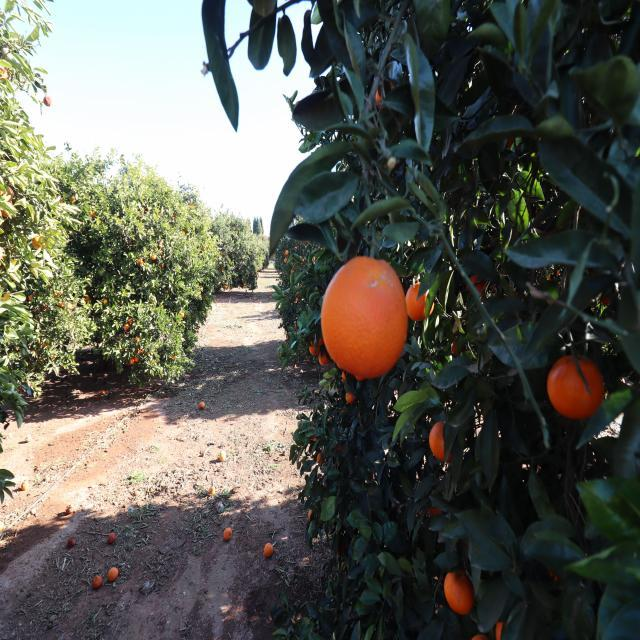Jeruk Sudah Matang: (320, 252, 409, 384), (544, 350, 608, 420), (442, 566, 480, 622), (426, 419, 462, 465), (405, 278, 437, 322), (372, 78, 398, 112), (492, 618, 516, 640), (32, 232, 46, 252), (468, 631, 495, 640), (308, 339, 322, 356), (314, 328, 327, 346), (0, 186, 15, 201), (318, 351, 332, 366), (1, 204, 12, 219), (344, 392, 355, 404), (341, 370, 349, 383), (70, 194, 78, 207), (36, 334, 44, 347), (151, 254, 161, 264), (58, 198, 68, 208), (102, 295, 110, 307), (198, 250, 206, 262), (38, 356, 46, 368), (158, 299, 164, 314), (50, 353, 59, 362), (34, 308, 42, 318), (30, 347, 40, 355), (85, 296, 93, 304), (138, 257, 146, 265), (32, 288, 39, 297), (181, 225, 188, 234), (173, 213, 180, 222), (124, 322, 130, 332), (150, 295, 156, 305), (90, 210, 96, 220), (44, 339, 50, 349), (134, 335, 141, 343), (28, 294, 34, 303), (147, 348, 152, 358), (42, 302, 48, 310), (130, 356, 136, 364), (128, 316, 134, 324), (190, 201, 196, 209), (298, 256, 304, 264), (54, 290, 61, 296), (42, 341, 48, 348), (159, 249, 165, 256), (62, 304, 68, 310), (286, 334, 292, 340), (173, 355, 178, 362), (136, 355, 140, 363), (182, 260, 186, 268), (120, 346, 125, 352), (181, 311, 186, 317), (138, 347, 143, 353), (306, 238, 310, 245), (296, 291, 300, 298), (160, 241, 164, 247), (284, 257, 288, 263), (303, 274, 307, 280), (294, 323, 298, 329), (225, 285, 229, 290), (162, 264, 166, 269), (286, 250, 290, 255), (291, 268, 294, 274), (312, 258, 315, 264), (226, 252, 230, 256), (225, 284, 229, 288), (294, 246, 298, 250), (296, 298, 300, 302), (238, 266, 241, 270), (218, 265, 222, 268), (300, 284, 303, 288), (288, 338, 290, 344), (221, 251, 223, 256), (232, 259, 235, 262), (222, 269, 225, 272), (242, 278, 244, 282), (284, 274, 286, 278), (304, 284, 306, 288), (244, 286, 247, 288), (243, 282, 246, 284), (218, 260, 220, 263)
